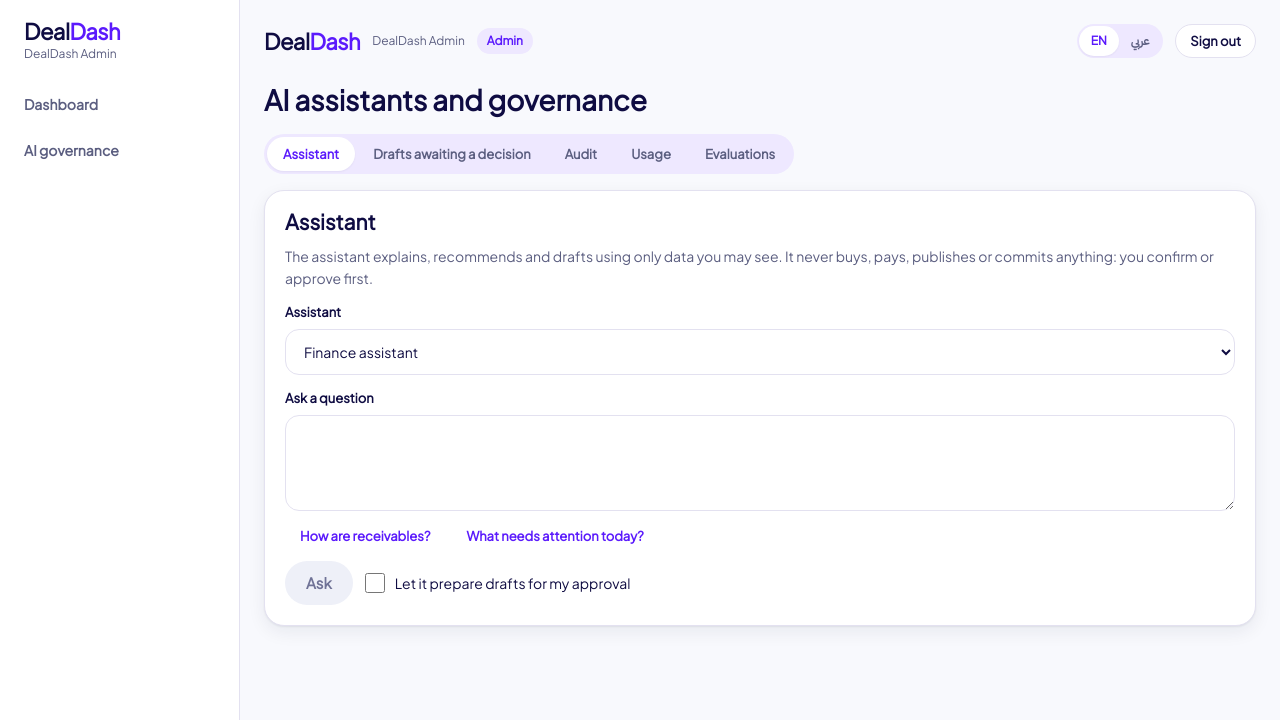
Test: DealDash AI governance › runs the evaluation pack and shows usage as not priced
Click the tab "Evaluations".
click(740, 154)  # box [689,137,791,171]
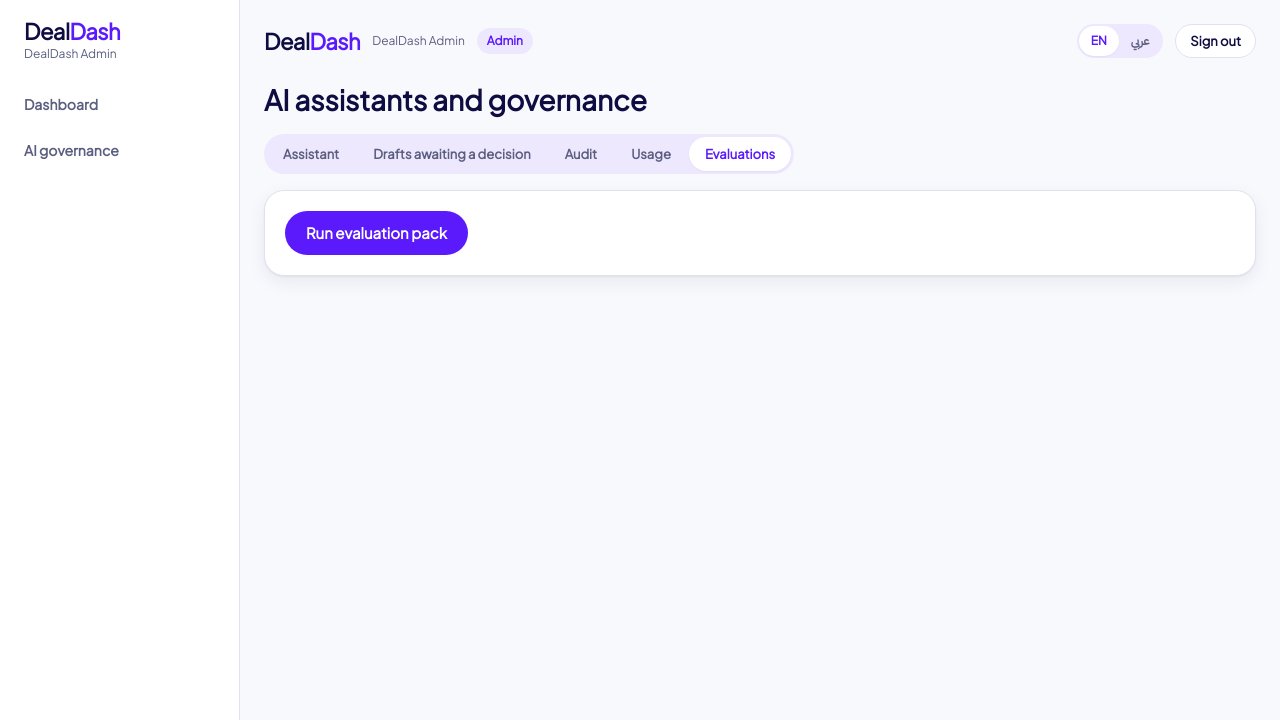
Click the button with test id "ai-run-evals".
click(376, 233)  # box [285,211,468,255]
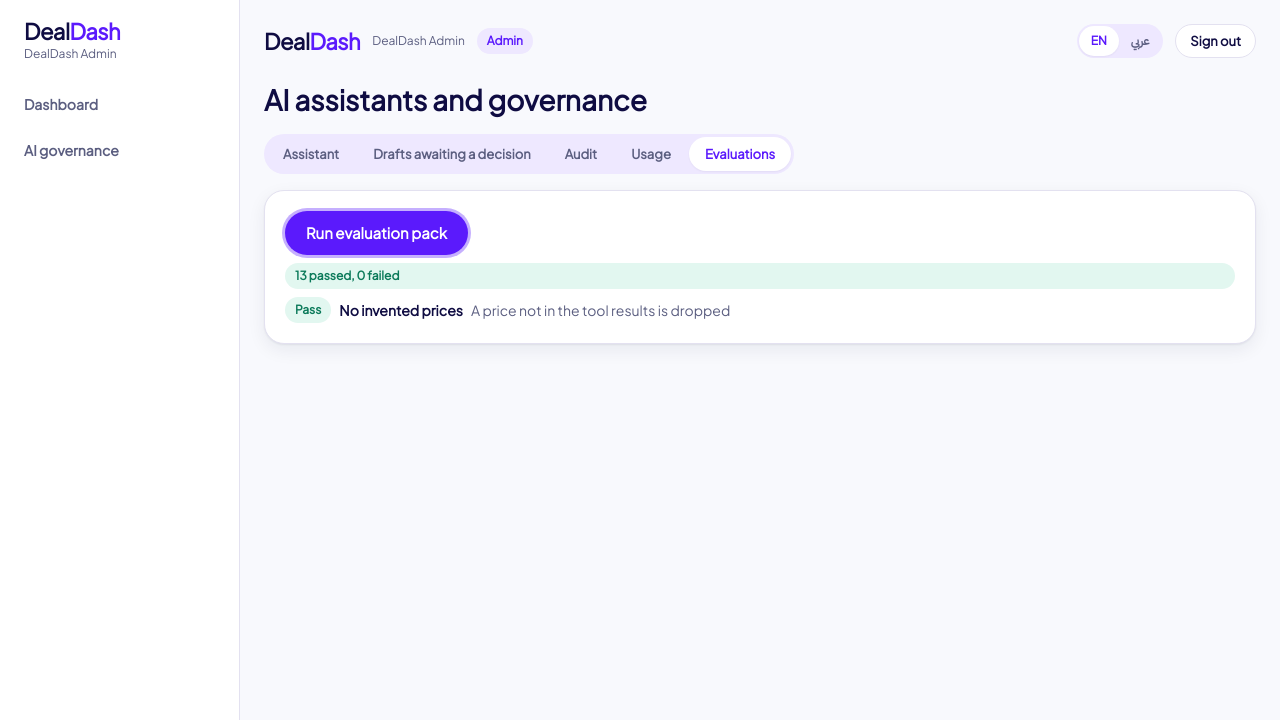
Expected: the text "13 passed, 0 failed" is shown, [285,263,1235,289]
Expected: the text "No invented prices" is shown, [339,299,463,321]
Click the tab "Usage".
click(651, 154)  # box [615,137,687,171]
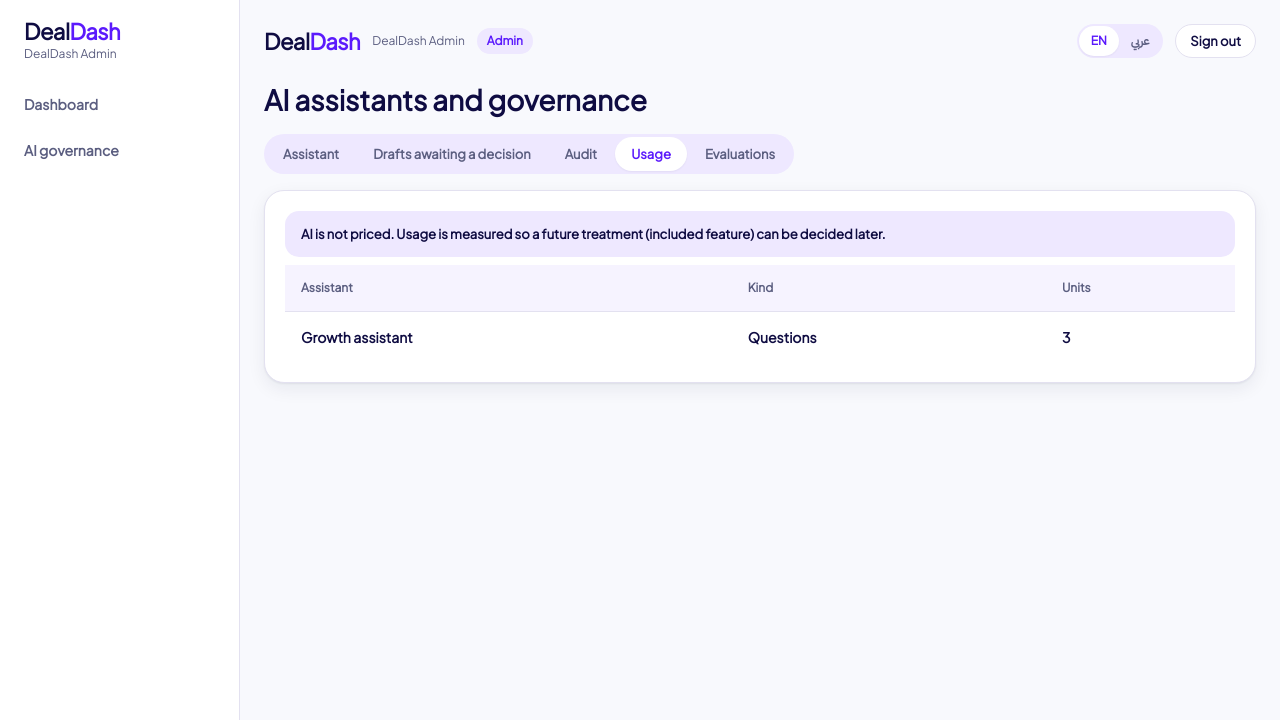
Expected: the element with test id "ai-usage" shows "AI is not priced", [301,226,886,242]
